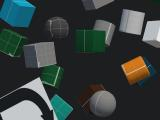Right: (0, 77, 58, 120)
